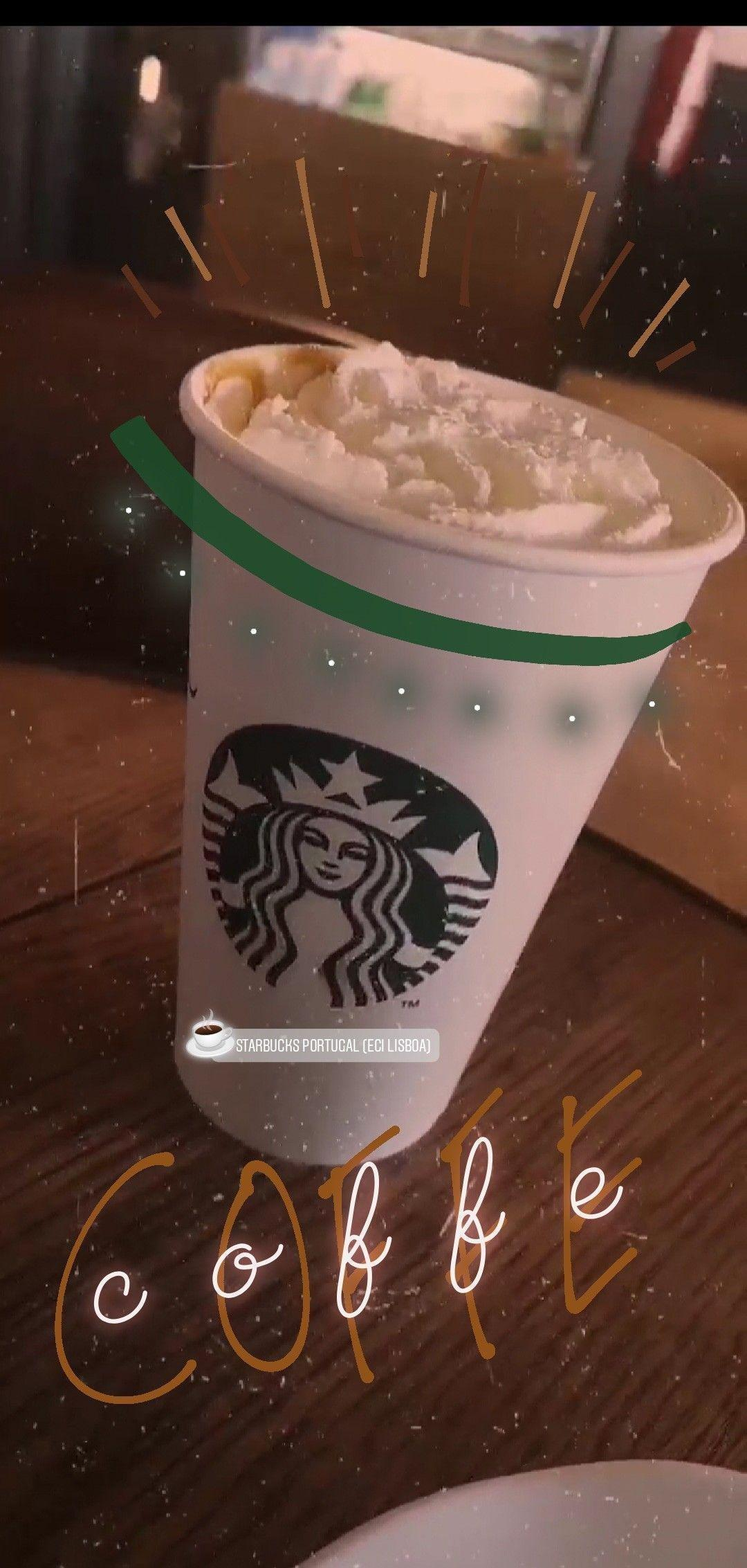cup-disposable: (160, 335, 746, 1171)
